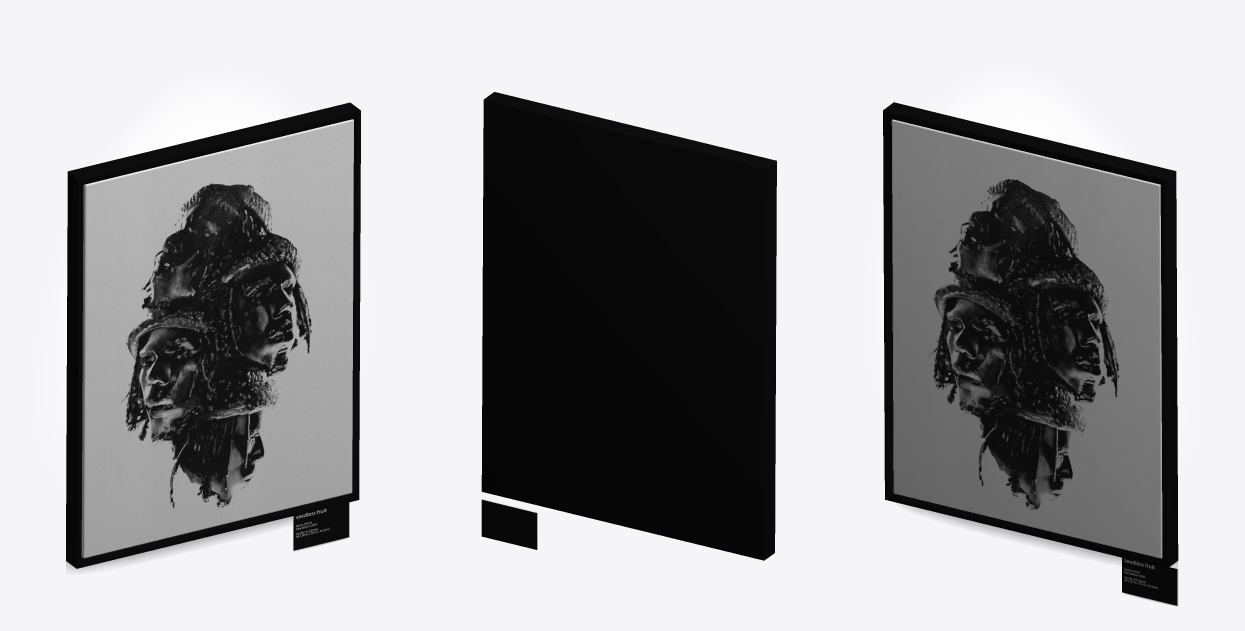
Rendered from seedless-fruit.glb.
3 views of the same model, side by side, from view 1: azimuth 30°, elevation 25°; view 2: azimuth 150°, elevation 25°; view 3: azimuth 330°, elevation 25° (orthographic).
Parts seen in each view (by area): view 1: Canvas, frame, ligth_, Box001, Plane001; view 2: frame, Box001; view 3: Canvas, frame, ligth_, Box001, Plane001.
Boxes of the visible parts, box(x1,y1,x2,y2) form: Canvas: box(81, 119, 353, 558); frame: box(66, 102, 360, 568); ligth_: box(46, 76, 300, 462); Box001: box(293, 502, 349, 550); Plane001: box(66, 516, 292, 568); frame: box(481, 92, 776, 560); Box001: box(481, 499, 537, 549); Canvas: box(891, 119, 1162, 558); frame: box(883, 102, 1178, 568); ligth_: box(876, 73, 1189, 442); Box001: box(1122, 557, 1178, 605); Plane001: box(910, 506, 1177, 566).
Bounding box in the file's own units: 10.94 × 13.89 × 0.6293.
Materials: 3 (2 with a texture image).
